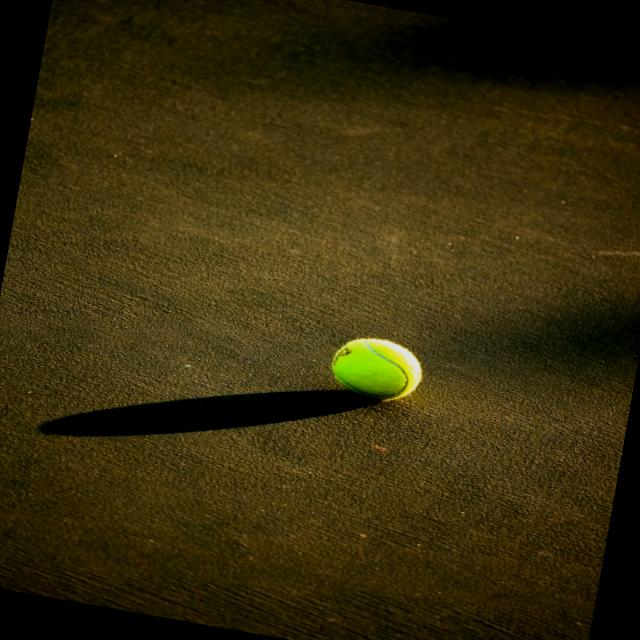Tennis Ball: (326, 330, 426, 407)
